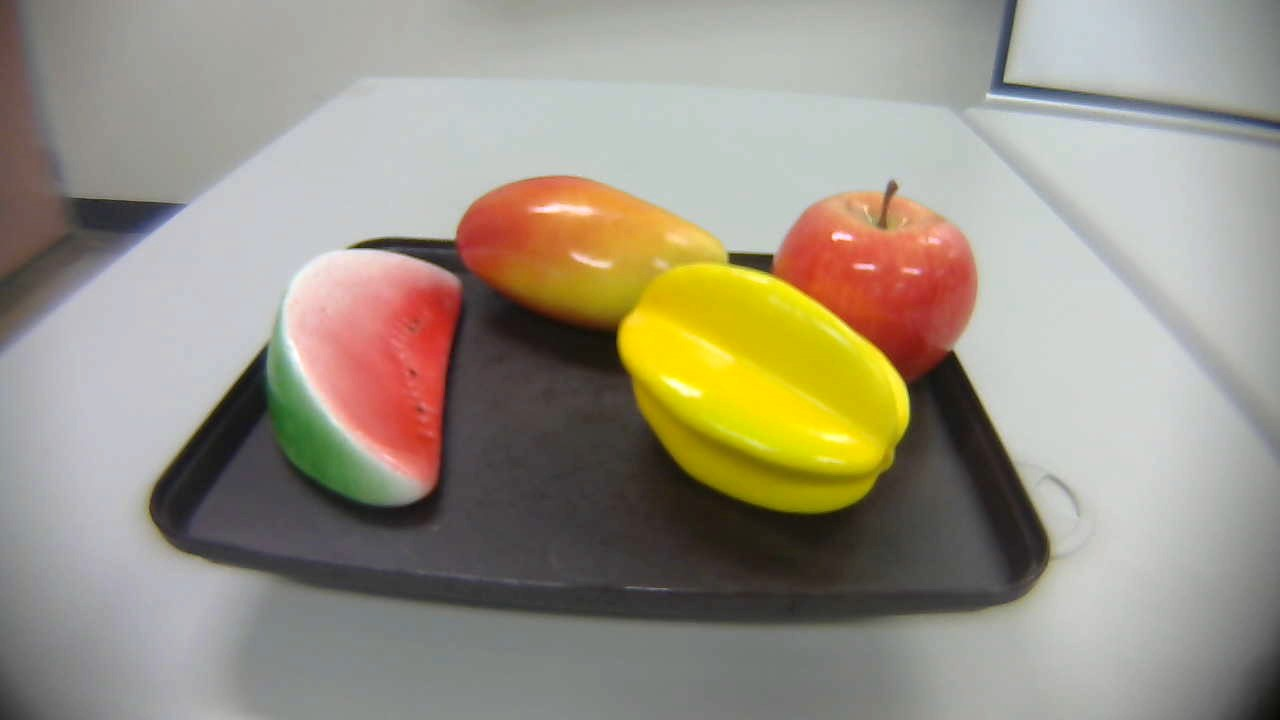red apple: (762, 163, 988, 396)
red mango: (452, 168, 732, 361)
star fruit: (605, 254, 920, 528)
water melon: (257, 248, 467, 509)
